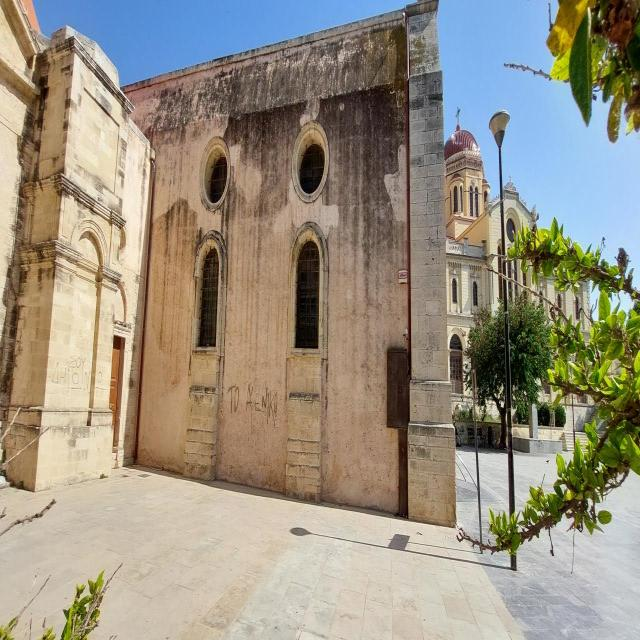Agia Aikaterini: (1, 3, 459, 538)
